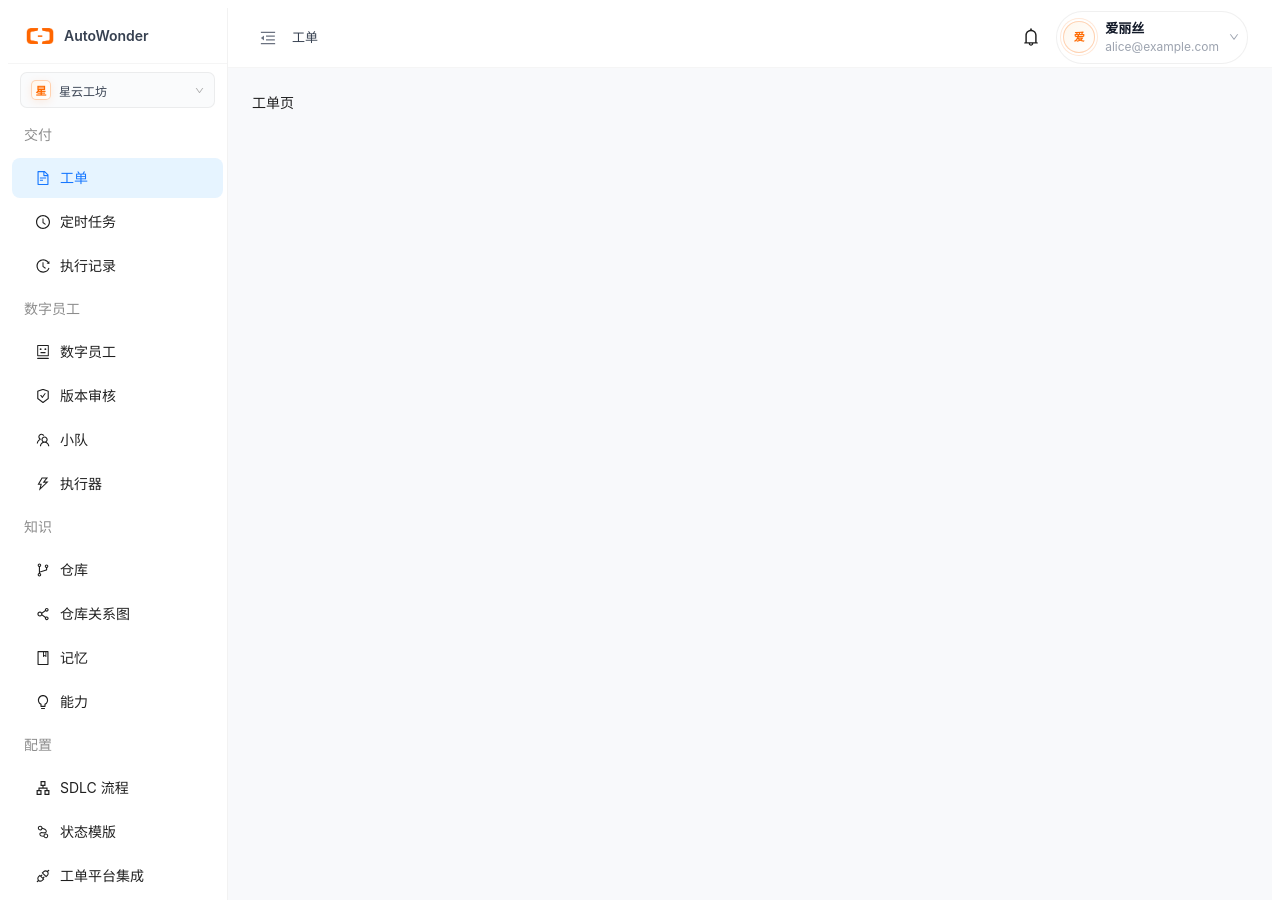
Test: AppLayout › opens workspace dropdown menu from the sidebar workspace chip
Click the text "星云工坊" at (83, 91), box [59,84,107,98]
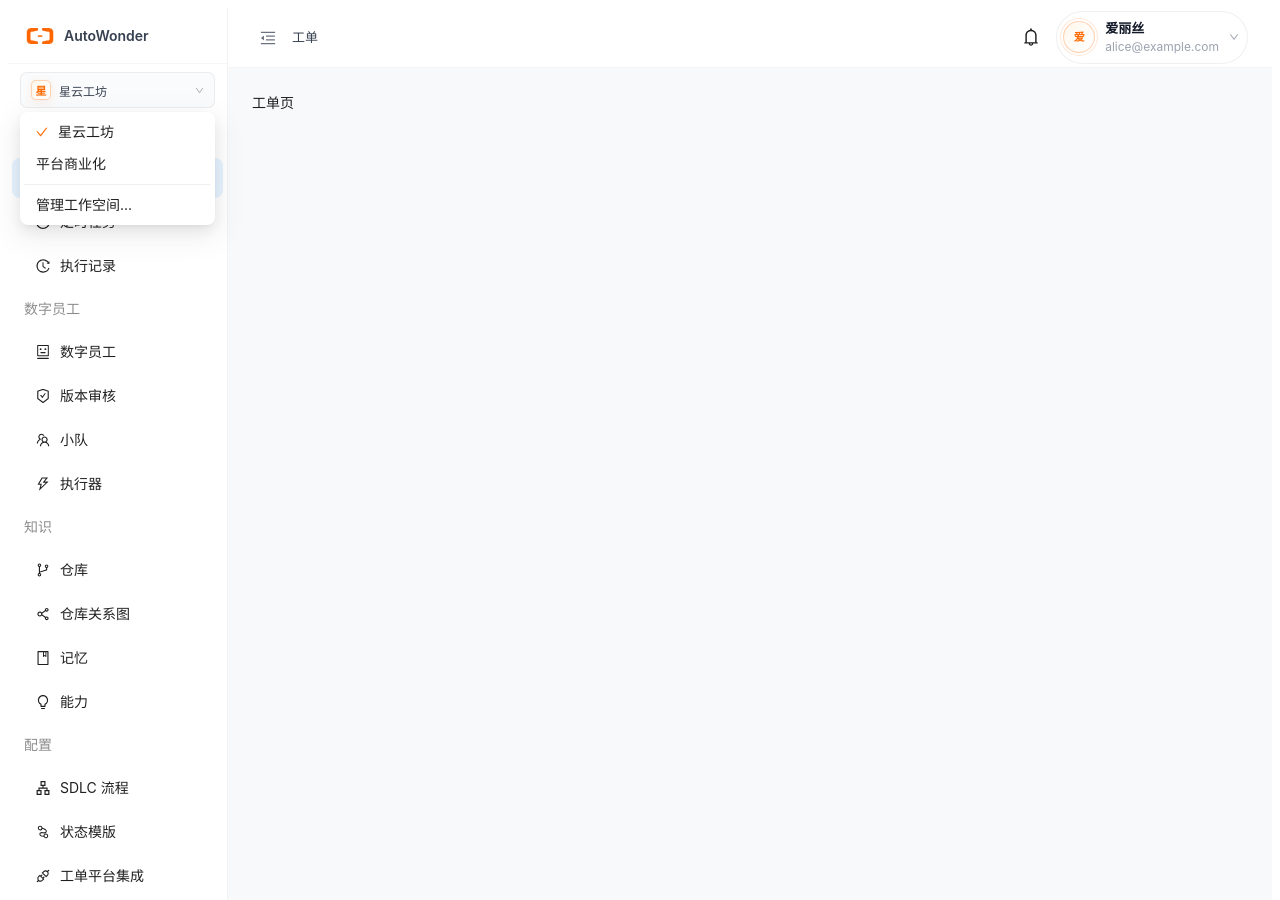
Expected: the text "平台商业化" is shown, [36,155,106,172]
Expected: the text "管理工作空间..." is shown, [36,196,132,213]
